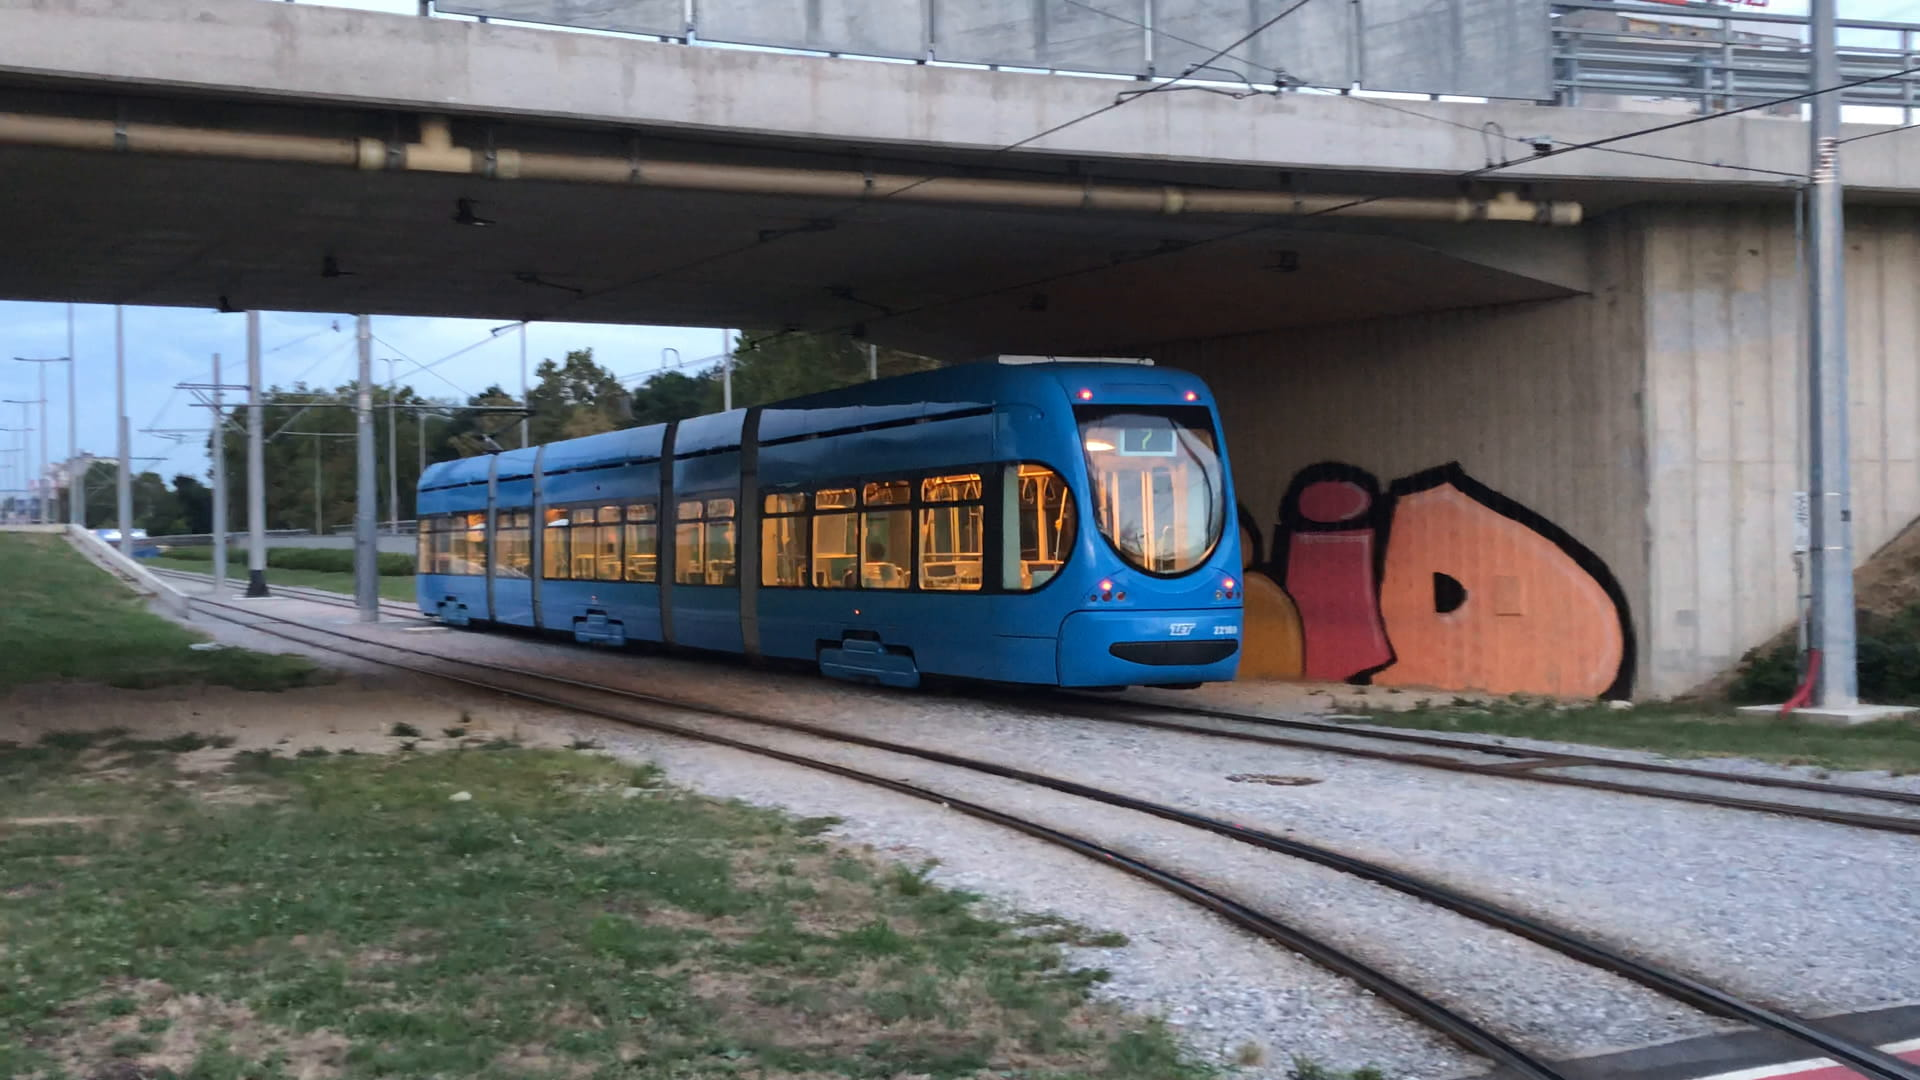tramvaj: (409, 342, 1250, 719)
